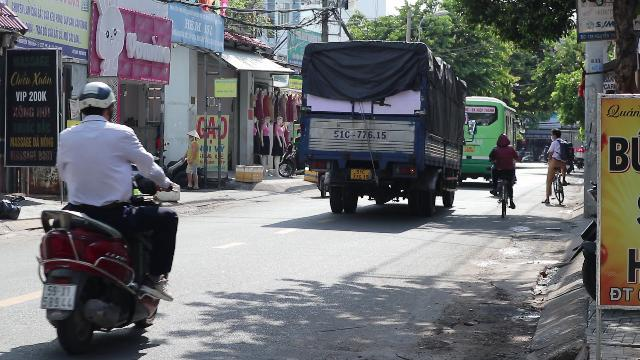helmet: (74, 80, 116, 122)
licenseplate: (42, 284, 76, 308)
motorcyclist: (30, 78, 180, 356)
